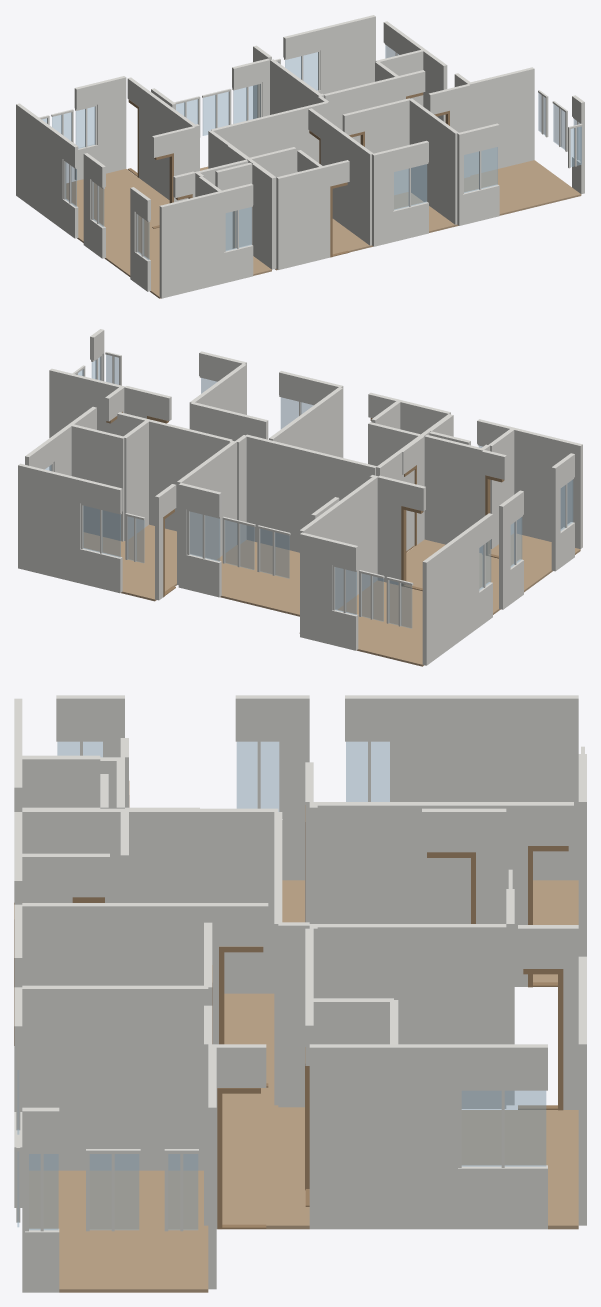
File: high_quality_architectural_3060.glb
The picture shows the model from 3 angles, top to bottom: view 1: azimuth 30°, elevation 25°; view 2: azimuth 150°, elevation 25°; view 3: azimuth 270°, elevation 25°; orthographic projection. The views are drawn at different scales.
Visible parts, largest first — view 1: Wall_13_solid, Wall_32_solid, Wall_33_solid, Wall_7_solid, Wall_18_solid, Wall_16_solid, Wall_45_solid, Floor_8_bedroom, Floor_7_bedroom, Wall_27_solid, Wall_35_solid, Wall_34_solid (+61 smaller); view 2: Wall_27_solid, Wall_45_solid, Wall_33_solid, Wall_13_solid, Wall_24_solid, Floor_8_bedroom, Floor_9_living_room, Wall_35_solid, Wall_1_solid, Wall_42_solid, Wall_38_solid, Wall_34_solid (+53 smaller); view 3: Wall_18_solid, Wall_33_solid, Wall_38_solid, Wall_35_solid, Floor_7_bedroom, Wall_26_solid, Wall_2_solid, Wall_16_solid, Wall_46_solid, Floor_10_other, Floor_11_kitchen, Window_22 (+43 smaller).
Part boxes in pixels (x1,y1,x2,y2): Wall_13_solid: (159,191,222,298); Wall_32_solid: (468,67,534,175); Wall_33_solid: (16,103,65,229); Wall_7_solid: (276,166,322,269); Wall_18_solid: (409,98,458,224); Wall_16_solid: (323,119,373,245); Wall_45_solid: (319,15,375,94); Floor_8_bedroom: (66,169,169,242); Floor_7_bedroom: (457,160,581,225); Wall_27_solid: (211,106,308,172); Wall_35_solid: (139,86,197,199); Wall_34_solid: (96,76,126,173); Wall_27_solid: (267,440,376,552); Wall_45_solid: (18,463,81,583); Wall_33_solid: (422,523,479,665); Wall_13_solid: (512,427,582,548); Wall_24_solid: (424,435,484,553); Floor_8_bedroom: (338,580,498,666); Floor_9_living_room: (217,540,299,616); Wall_35_solid: (313,477,377,609); Wall_1_solid: (71,424,124,541); Wall_42_solid: (147,419,232,531); Wall_38_solid: (177,442,236,584); Wall_34_solid: (300,532,333,644); Wall_18_solid: (22,985,208,1170); Wall_33_solid: (394,695,578,880); Wall_38_solid: (309,924,506,1108); Wall_35_solid: (309,802,527,986); Floor_7_bedroom: (29,1170,208,1292); Wall_26_solid: (125,808,278,993); Wall_2_solid: (309,1044,393,1229); Wall_16_solid: (22,903,208,985); Wall_46_solid: (394,1044,457,1229); Floor_10_other: (222,1086,309,1229); Floor_11_kitchen: (461,1110,578,1229); Window_22: (461,1090,546,1166).
Bounding box in the file's own units: 13.27 × 2.75 × 7.73.
